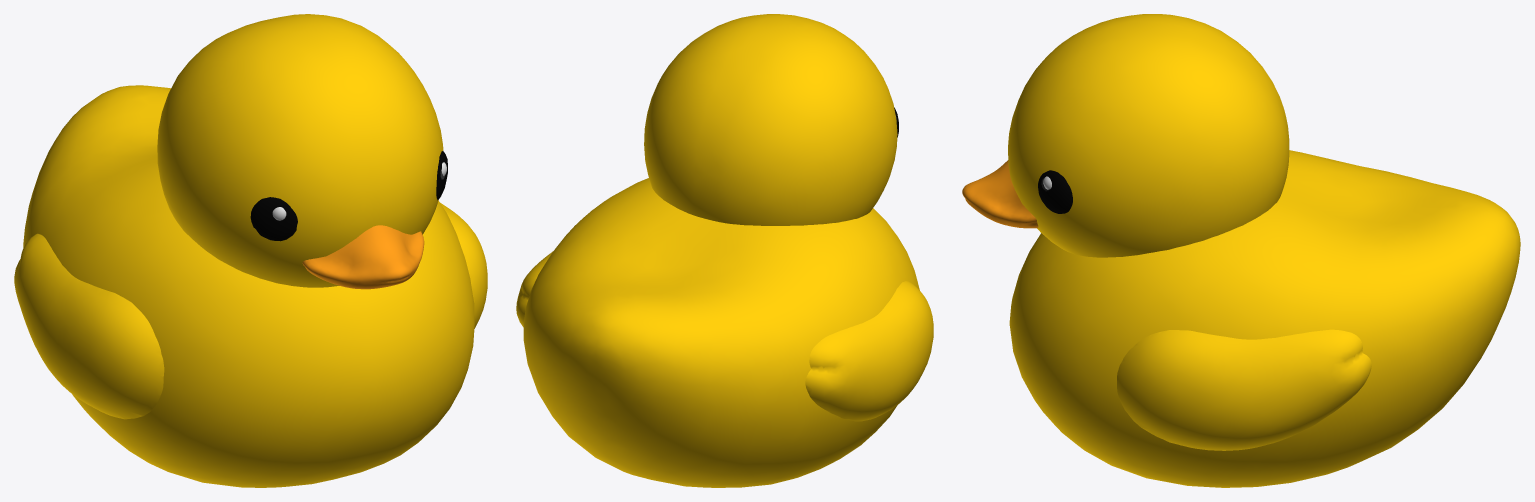
File: rubber_duck_var4.glb
3 renders of one model, left to right at view 1: azimuth 30°, elevation 25°; view 2: azimuth 150°, elevation 25°; view 3: azimuth 270°, elevation 25°, orthographic. The views are drawn at different scales.
Visible parts, largest first — view 1: Mesh_4, Mesh_6, wing#1.001, Mesh_3, wing#1, eye#1.001; view 2: Mesh_4, Mesh_6, wing#1.001, wing#1; view 3: Mesh_4, Mesh_6, wing#1, Mesh_3, eye#1.002.
Part boxes in pixels (x1,y1,x2,y2): Mesh_4: [23, 85, 474, 487]; Mesh_6: [157, 14, 443, 287]; wing#1.001: [14, 233, 164, 419]; Mesh_3: [302, 225, 424, 289]; wing#1: [440, 202, 487, 328]; eye#1.001: [250, 197, 297, 241]; Mesh_4: [523, 178, 919, 487]; Mesh_6: [644, 14, 897, 225]; wing#1.001: [805, 281, 933, 421]; wing#1: [516, 251, 553, 327]; Mesh_4: [1009, 150, 1520, 487]; Mesh_6: [1008, 14, 1289, 257]; wing#1: [1117, 329, 1371, 450]; Mesh_3: [962, 160, 1038, 228]; eye#1.002: [1038, 170, 1072, 213].
Size of the model in its own units: 9.61 by 10.11 by 12.14.
Materials: 4 (1 with a texture image).
